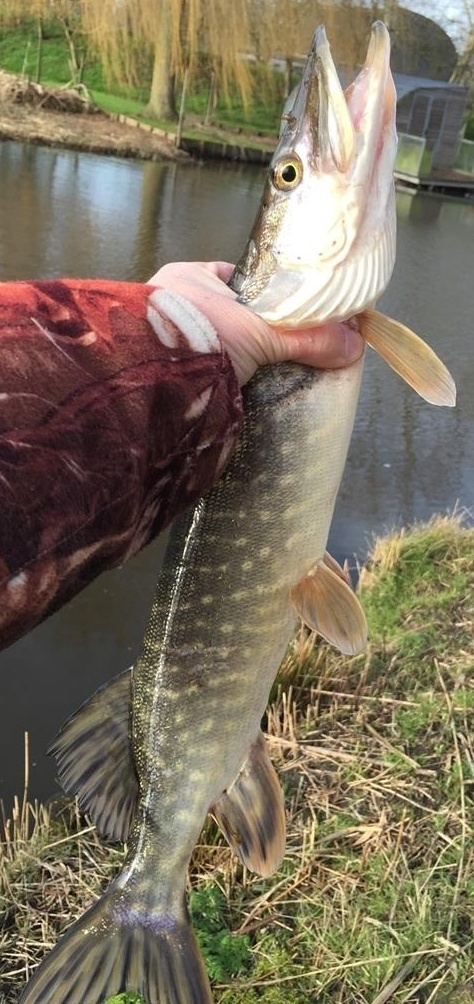Esox lucius: (20, 20, 454, 1004)
